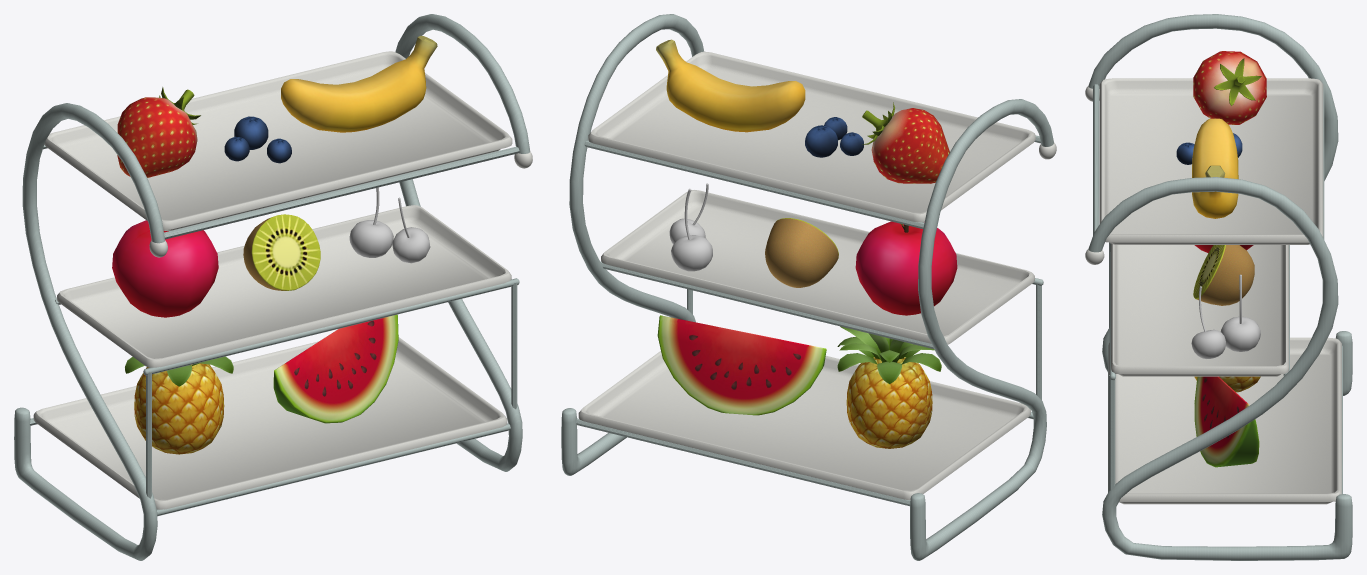
Rendered from Restaurant_Ice cream_Fruit exhibition stand.FBX.
The picture shows the model from 3 angles, left to right: view 1: azimuth 30°, elevation 25°; view 2: azimuth 150°, elevation 25°; view 3: azimuth 270°, elevation 25°; orthographic projection. The views are drawn at different scales.
Visible parts, largest first — view 1: Restaurant_Ice cream_Shelf001, Restaurant_Ice cream_watermelon001, Restaurant_Ice cream_banana001, Restaurant_Ice cream_apple001, Restaurant_Ice cream_Pineapple001, Restaurant_Ice cream_strawberry001, Restaurant_Ice cream_Kiwi fruit001, Restaurant_Ice_cream_cherry003, Restaurant_Ice cream_blueberries006; view 2: Restaurant_Ice cream_Shelf001, Restaurant_Ice cream_watermelon001, Restaurant_Ice cream_Pineapple001, Restaurant_Ice cream_banana001, Restaurant_Ice cream_apple001, Restaurant_Ice cream_strawberry001, Restaurant_Ice cream_Kiwi fruit001, Restaurant_Ice_cream_cherry003, Restaurant_Ice cream_blueberries006; view 3: Restaurant_Ice cream_Shelf001, Restaurant_Ice cream_strawberry001, Restaurant_Ice cream_watermelon001, Restaurant_Ice cream_banana001, Restaurant_Ice cream_Kiwi fruit001, Restaurant_Ice_cream_cherry003, Restaurant_Ice cream_blueberries006, Restaurant_Ice cream_Pineapple001.
Part boxes in pixels (<box>): Restaurant_Ice cream_Shelf001: <box>14,14,532,560</box>; Restaurant_Ice cream_watermelon001: <box>273,314,398,423</box>; Restaurant_Ice cream_banana001: <box>281,35,437,132</box>; Restaurant_Ice cream_apple001: <box>112,220,218,317</box>; Restaurant_Ice cream_Pineapple001: <box>125,356,233,454</box>; Restaurant_Ice cream_strawberry001: <box>117,87,200,177</box>; Restaurant_Ice cream_Kiwi fruit001: <box>243,214,320,290</box>; Restaurant_Ice_cream_cherry003: <box>349,187,430,263</box>; Restaurant_Ice cream_blueberries006: <box>224,116,291,163</box>; Restaurant_Ice cream_Shelf001: <box>561,14,1056,560</box>; Restaurant_Ice cream_watermelon001: <box>657,315,826,415</box>; Restaurant_Ice cream_Pineapple001: <box>837,326,941,448</box>; Restaurant_Ice cream_banana001: <box>656,39,805,132</box>; Restaurant_Ice cream_apple001: <box>855,221,957,315</box>; Restaurant_Ice cream_strawberry001: <box>862,102,949,183</box>; Restaurant_Ice cream_Kiwi fruit001: <box>765,218,838,287</box>; Restaurant_Ice_cream_cherry003: <box>669,183,712,271</box>; Restaurant_Ice cream_blueberries006: <box>805,117,863,157</box>; Restaurant_Ice cream_Shelf001: <box>1085,14,1352,560</box>; Restaurant_Ice cream_strawberry001: <box>1193,51,1266,124</box>; Restaurant_Ice cream_watermelon001: <box>1194,376,1259,467</box>; Restaurant_Ice cream_banana001: <box>1192,118,1238,218</box>; Restaurant_Ice cream_Kiwi fruit001: <box>1193,245,1254,305</box>; Restaurant_Ice_cream_cherry003: <box>1191,274,1260,358</box>; Restaurant_Ice cream_blueberries006: <box>1176,133,1242,164</box>; Restaurant_Ice cream_Pineapple001: <box>1194,376,1260,392</box>.
Size of the model in its own units: 17.6 by 18.52 by 11.73.
